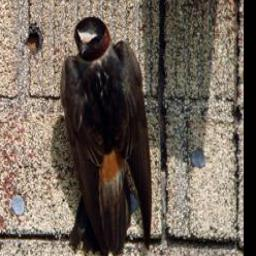Swallow: (61, 15, 155, 256)
